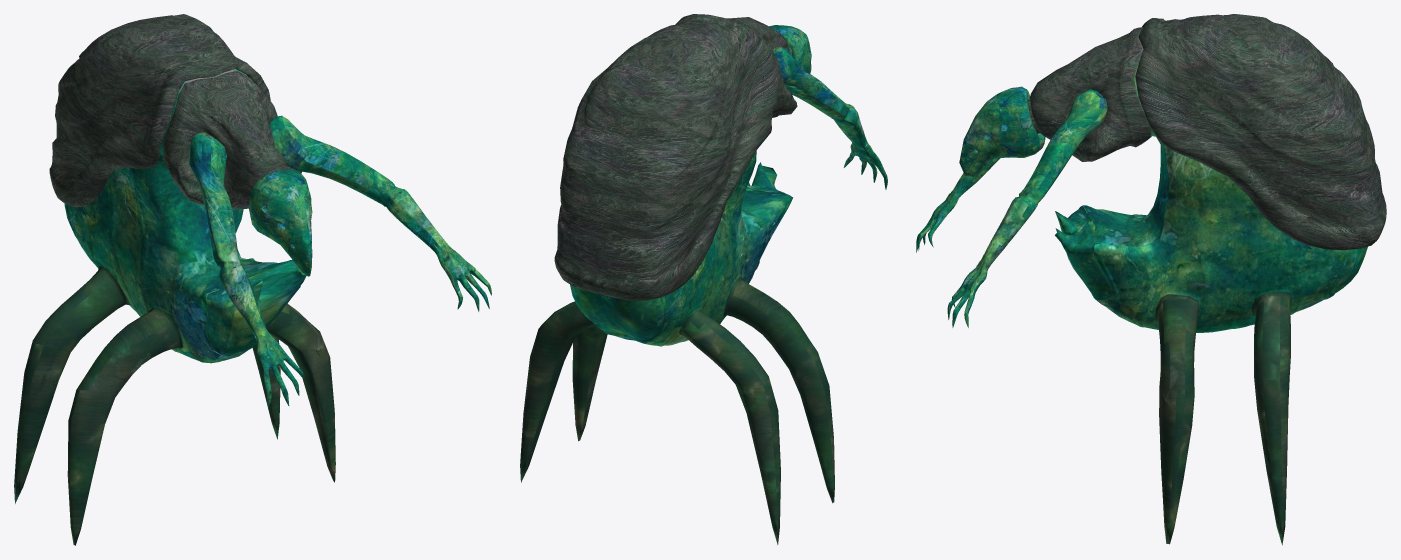
File: Aranar.0018.obj
The picture shows the model from 3 angles, left to right: view 1: azimuth 30°, elevation 25°; view 2: azimuth 150°, elevation 25°; view 3: azimuth 270°, elevation 25°; orthographic projection. The views are drawn at different scales.
Size of the model in its own units: 2.74 by 3.83 by 3.57.
5 materials, 4 textured.
